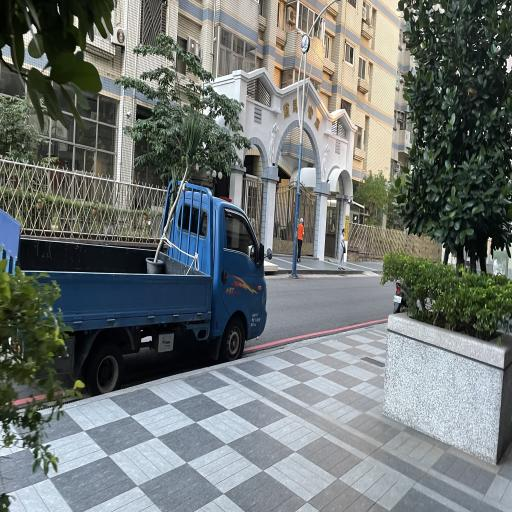MIU: (199, 296, 272, 381), (38, 339, 119, 410)
car: (0, 173, 269, 396)
redline: (234, 310, 390, 356), (2, 390, 90, 416)
